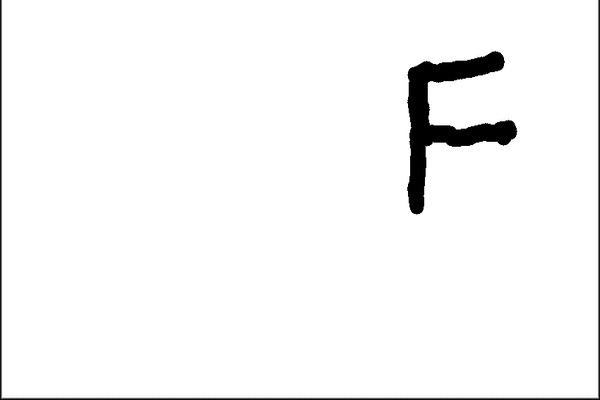F: (399, 46, 522, 215)
